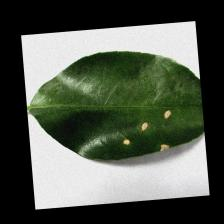canker: (106, 105, 182, 158)
